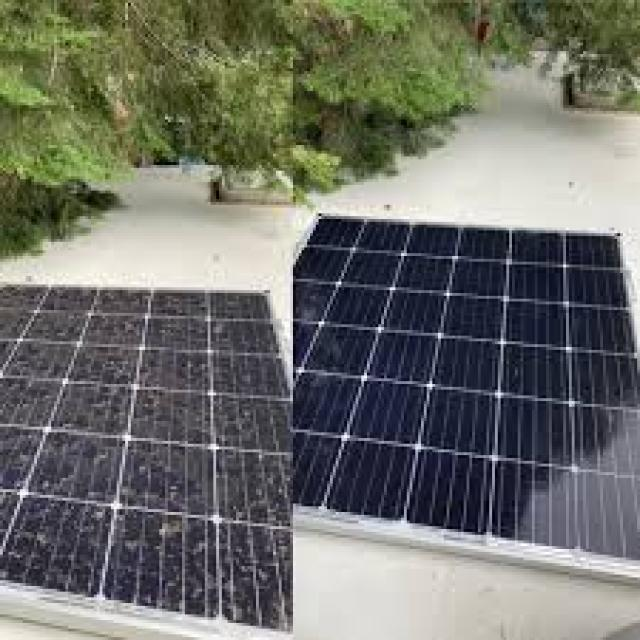clean-solar-panel: (294, 218, 640, 557)
